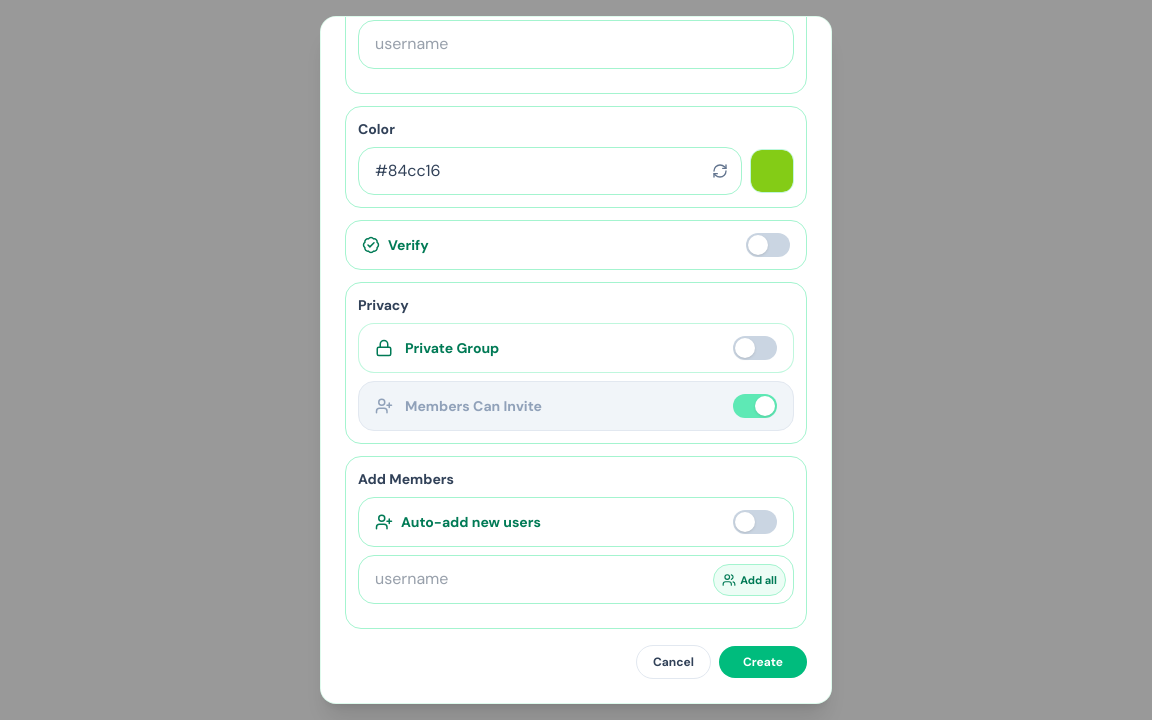
Test case: AdminGroupModal - Auto Add New Users Toggle › disables auto-add toggle and sets to off when group visibility is private
(page scrolled)
// Toggle auto-add ON while public
Click the switch labelled "Auto-add new users".
click(471, 522)  # box left=358, top=497, right=794, bottom=547
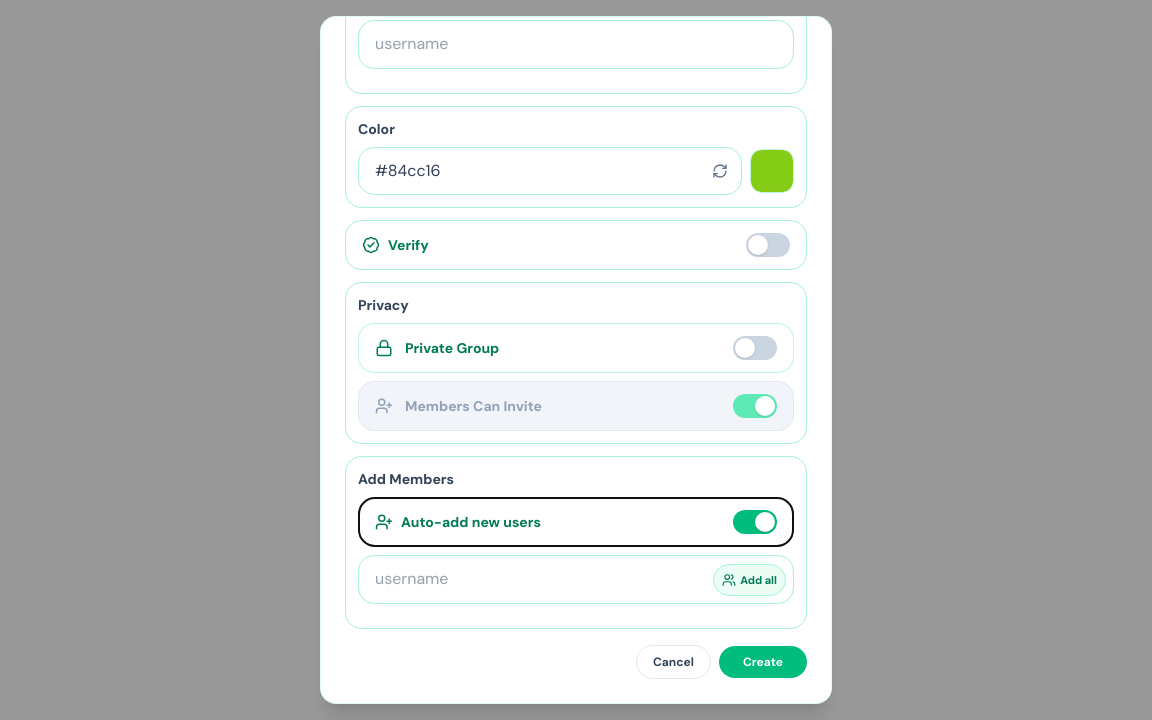
Now the switch labelled "Auto-add new users" is checked, box left=358, top=497, right=794, bottom=547
// Switch visibility to private
Click the switch labelled "Private Group".
click(431, 348)  # box left=358, top=323, right=794, bottom=373
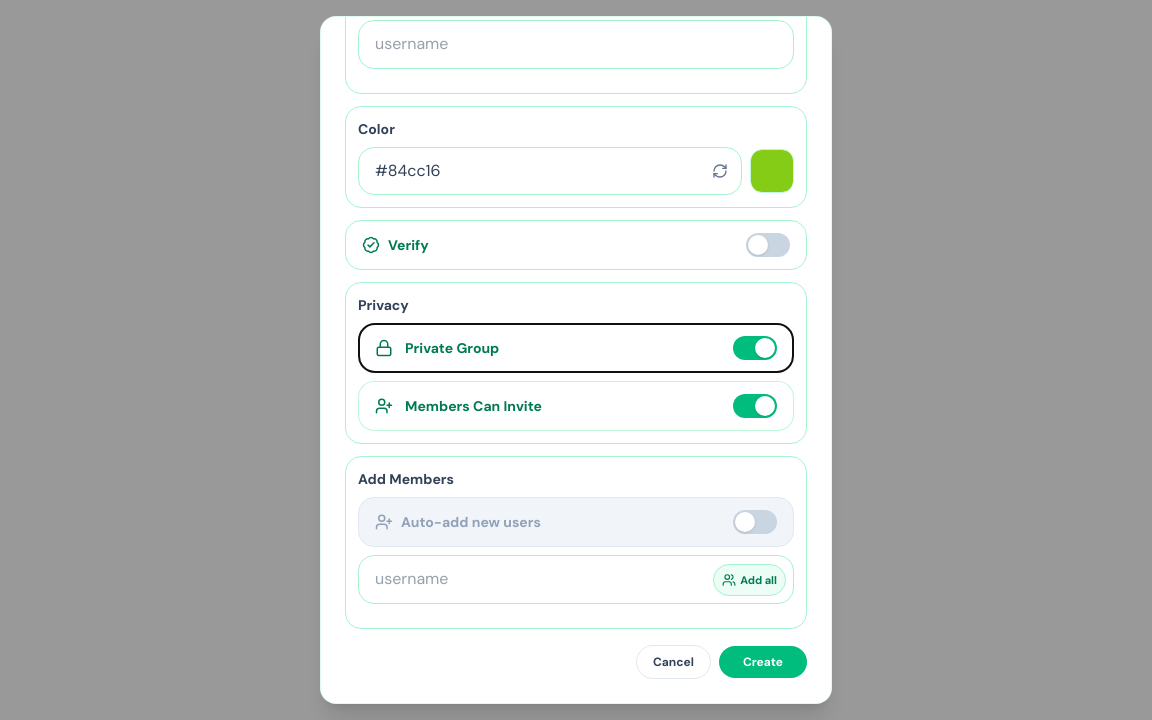
Now the switch labelled "Auto-add new users" is disabled, box left=358, top=497, right=794, bottom=547
